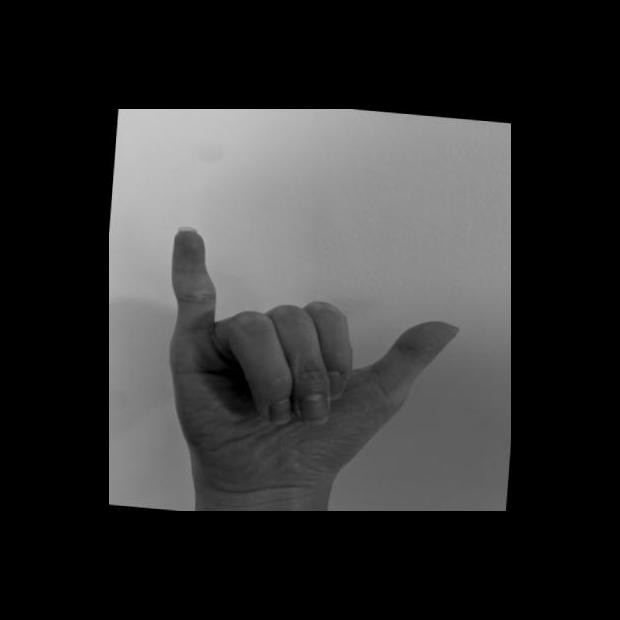X: (153, 221, 472, 502)
